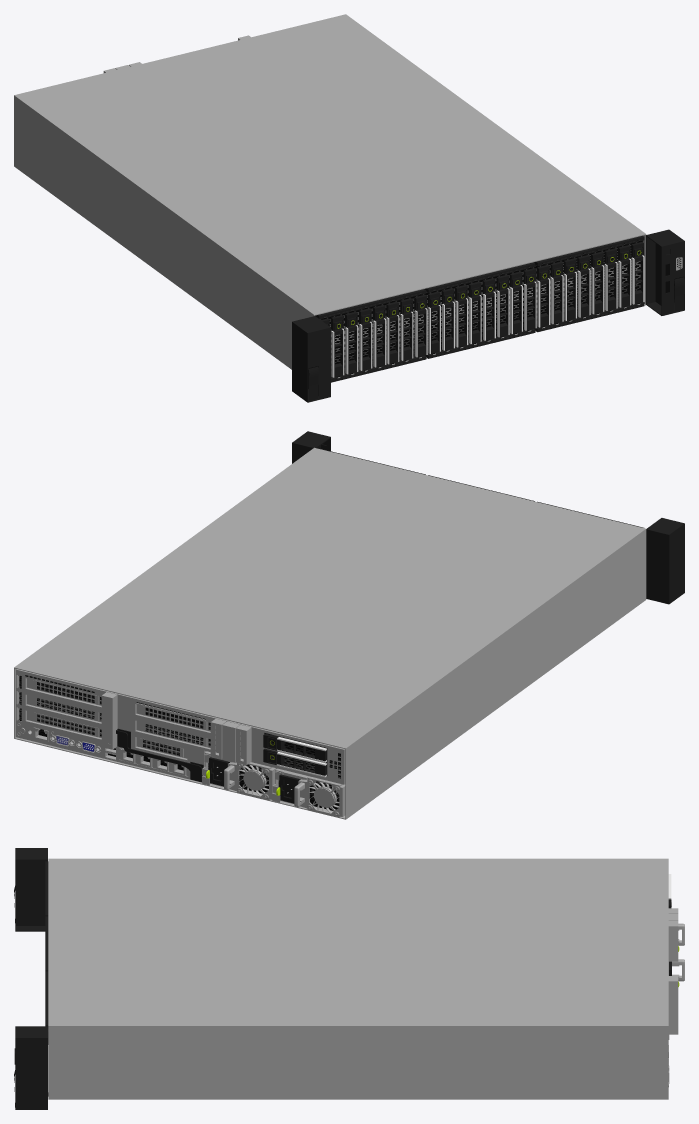
File: Dell_R740XD.fbx
3 renders of one model, top to bottom at view 1: azimuth 30°, elevation 25°; view 2: azimuth 150°, elevation 25°; view 3: azimuth 270°, elevation 25°, orthographic. The views are drawn at different scales.
Parts seen in each view (by area): view 1: Dell_R740XD; view 2: Dell_R740XD; view 3: Dell_R740XD.
Boxes of the visible parts, x1=… form: Dell_R740XD: x1=14, y1=14, x2=684, y2=402; Dell_R740XD: x1=14, y1=431, x2=684, y2=819; Dell_R740XD: x1=14, y1=848, x2=684, y2=1109.
Bounding box in the file's own units: 493 × 89 × 735.
Materials: 7 (1 with a texture image).
